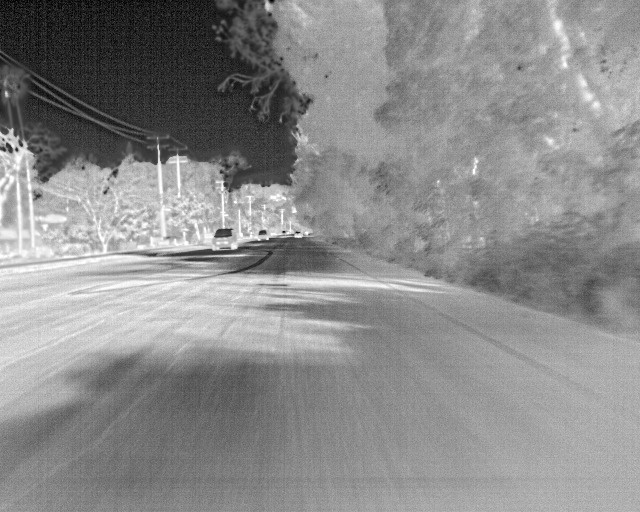vehicle: (211, 228, 239, 252), (257, 228, 270, 240)
